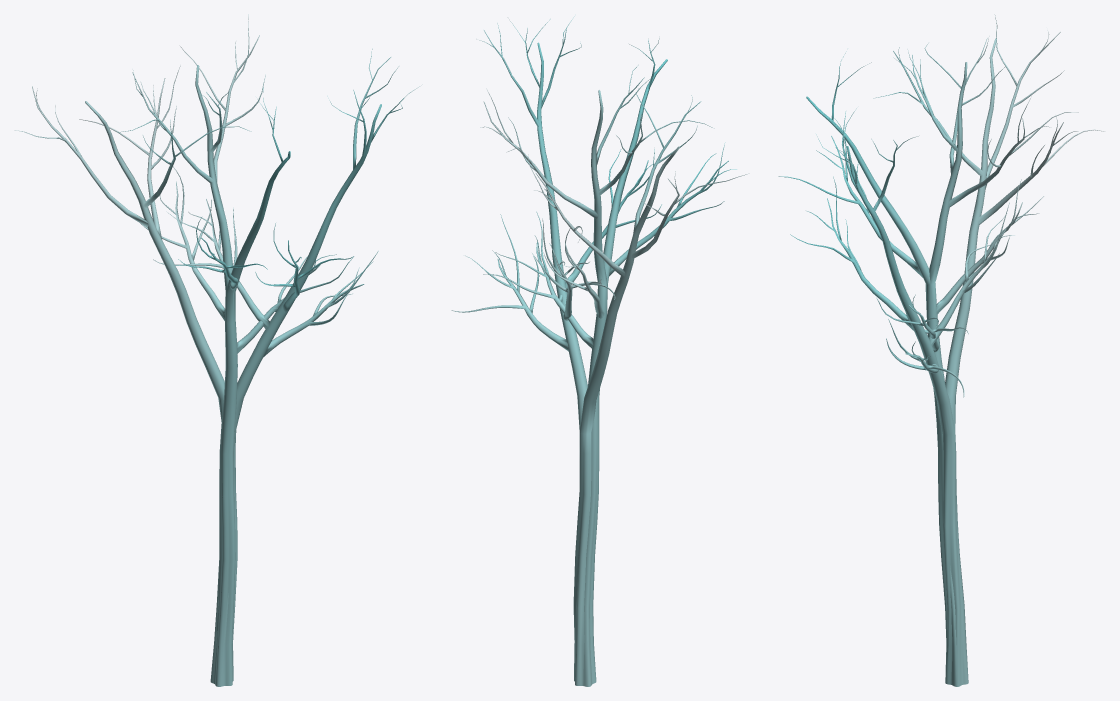
File: cave_tree.glb
3 renders of one model, left to right at view 1: azimuth 30°, elevation 25°; view 2: azimuth 150°, elevation 25°; view 3: azimuth 270°, elevation 25°, orthographic. The views are drawn at different scales.
Visible parts, largest first — view 1: cave_tree_sketchfab; view 2: cave_tree_sketchfab; view 3: cave_tree_sketchfab.
Part boxes in pixels (x1,y1,x2,y2): cave_tree_sketchfab: [15, 14, 419, 686]; cave_tree_sketchfab: [451, 16, 748, 686]; cave_tree_sketchfab: [778, 14, 1104, 686].
Size of the model in its own units: 0.0197 by 0.0361 by 0.0172.
